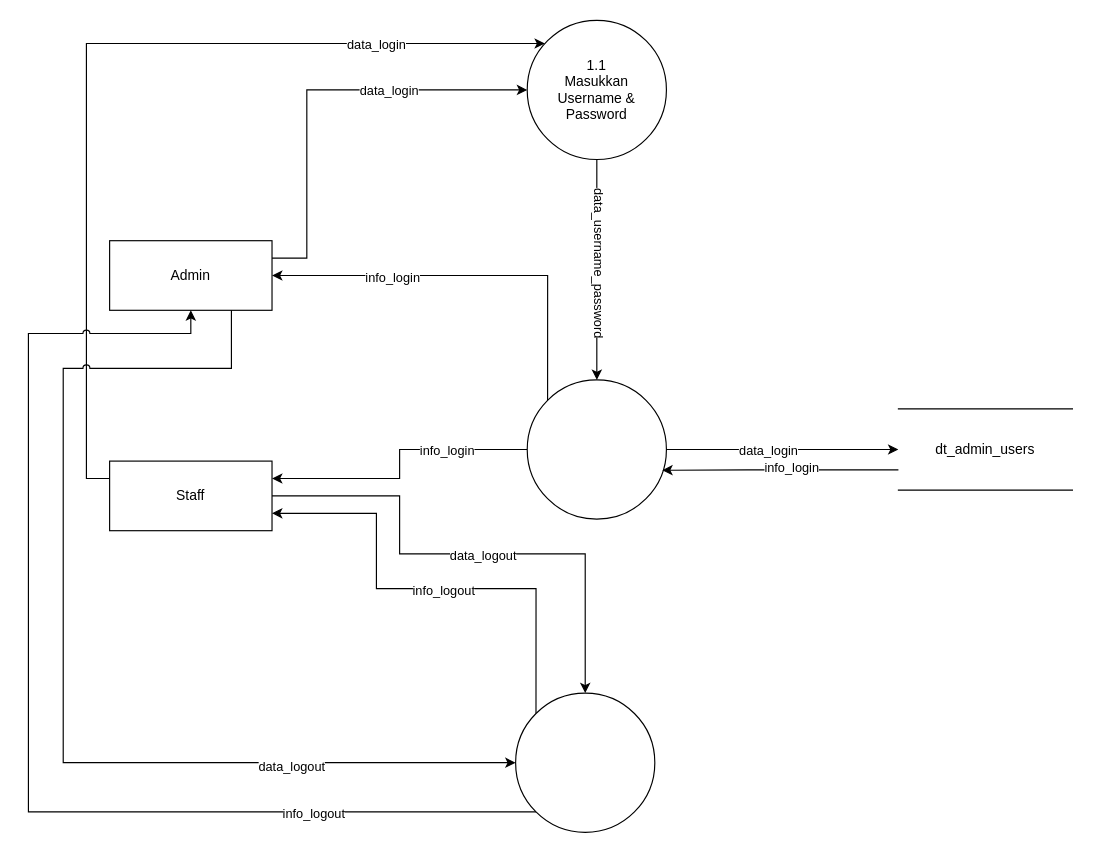
This 1093x853 diagram has some shape labels left out. The centre of each missing label's shape, as x and y in pixels:
"1.2 Verifikasi User" belongs at (x=596, y=449).
"1.3 Logout" belongs at (x=584, y=762).
